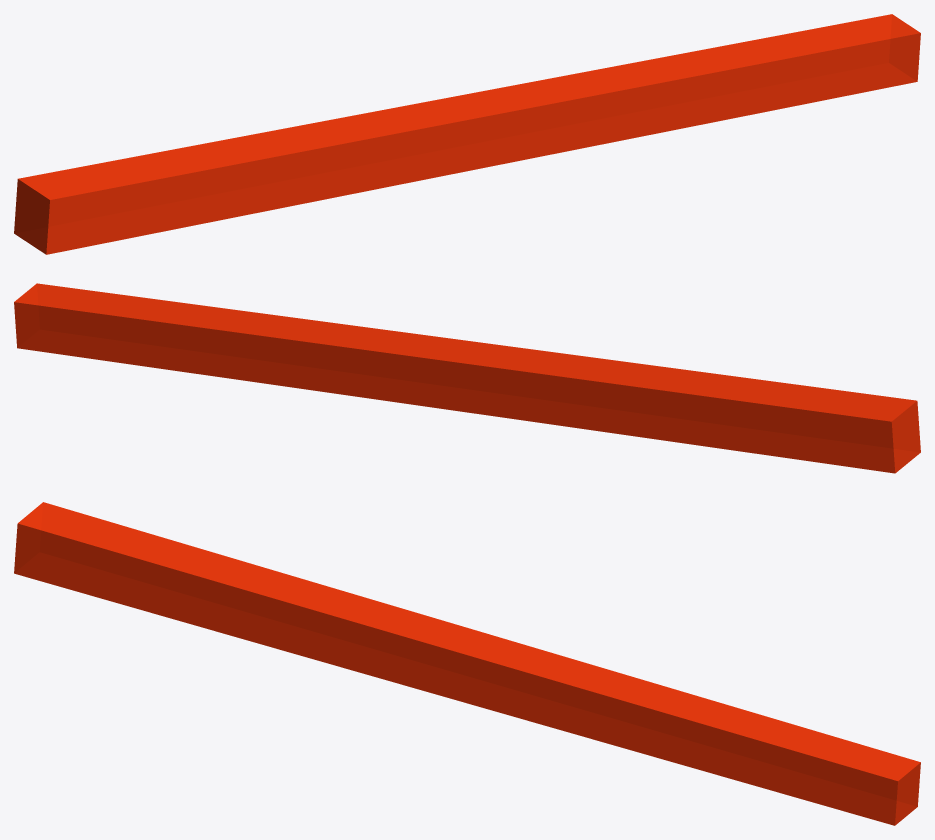
File: Event_421364160_EErechit_6.fbx
The picture shows the model from 3 angles, top to bottom: view 1: azimuth 30°, elevation 25°; view 2: azimuth 150°, elevation 25°; view 3: azimuth 330°, elevation 25°; orthographic projection. The views are drawn at different scales.
Visible parts, largest first — view 1: Model; view 2: Model; view 3: Model.
Boxes of the visible parts, left/top/right/bottom form: Model: left=14, top=14, right=920, bottom=254; Model: left=14, top=283, right=920, bottom=473; Model: left=14, top=502, right=920, bottom=825.
Bounding box in the file's own units: 1.43 × 0.1848 × 0.1533.
